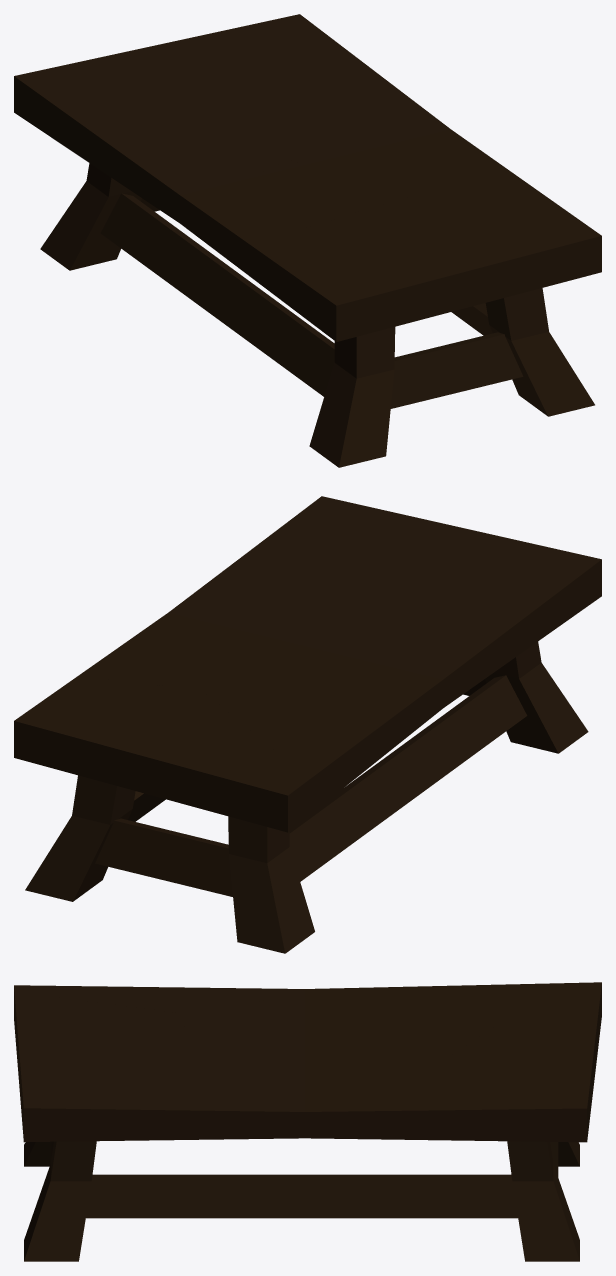
The model's file is table_shattered.FBX.
3 renders of one model, top to bottom at view 1: azimuth 30°, elevation 25°; view 2: azimuth 150°, elevation 25°; view 3: azimuth 270°, elevation 25°, orthographic. The views are drawn at different scales.
Parts seen in each view (by area): view 1: Object009_Part_5, Object009_Part_2, Object009_Part_1, Object009_Part_6, Object009_Part_3, Object009_Part_4, Box006_Part_1, Box007, Object007_Part_3, Box006_Part_2, Object005_Part_1, Object003_Part_1 (+5 smaller); view 2: Object009_Part_6, Object009_Part_5, Object009_Part_2, Object009_Part_1, Object009_Part_3, Object009_Part_4, Box006_Part_1, Box008, Object007_Part_3, Box005_Part_1, Box006_Part_2, Object003_Part_1 (+4 smaller); view 3: Object009_Part_1, Object009_Part_5, Object009_Part_6, Object009_Part_2, Box009_Part_1, Object009_Part_4, Box009_Part_2, Object005_Part_1, Object009_Part_3, Box005_Part_1, Box009_Part_3, Box005_Part_3 (+3 smaller).
Boxes of the visible parts, box(x1,y1,x2,y2) form: Object009_Part_5: box(304, 190, 601, 339); Object009_Part_2: box(37, 93, 288, 228); Object009_Part_1: box(272, 62, 552, 201); Object009_Part_6: box(14, 14, 362, 128); Object009_Part_3: box(187, 197, 350, 341); Object009_Part_4: box(207, 160, 429, 228); Box006_Part_1: box(214, 270, 334, 396); Box007: box(390, 332, 523, 408); Object007_Part_3: box(40, 173, 141, 270); Box006_Part_2: box(149, 226, 238, 316); Object005_Part_1: box(485, 288, 556, 413); Object003_Part_1: box(309, 403, 387, 467); Object009_Part_6: box(14, 675, 311, 832); Object009_Part_5: box(273, 496, 586, 613); Object009_Part_2: box(202, 657, 451, 813); Object009_Part_1: box(79, 533, 315, 690); Object009_Part_3: box(435, 556, 601, 702); Object009_Part_4: box(309, 587, 452, 667); Box006_Part_1: box(373, 675, 527, 804); Box008: box(95, 818, 232, 896); Object007_Part_3: box(230, 831, 314, 953); Box005_Part_1: box(25, 798, 133, 901); Box006_Part_2: box(314, 764, 405, 852); Object003_Part_1: box(506, 690, 588, 753); Object009_Part_1: box(114, 1042, 468, 1140); Object009_Part_5: box(14, 992, 194, 1142); Object009_Part_6: box(440, 982, 601, 1142); Object009_Part_2: box(288, 983, 559, 1061); Box009_Part_1: box(268, 1174, 517, 1218); Object009_Part_4: box(181, 997, 320, 1074); Box009_Part_2: box(150, 1174, 269, 1218); Object005_Part_1: box(33, 1141, 96, 1261); Object009_Part_3: box(14, 985, 289, 1020); Box005_Part_1: box(513, 1142, 579, 1261); Box009_Part_3: box(86, 1174, 158, 1218); Box005_Part_3: box(507, 1141, 551, 1187).
Bounding box in the file's own units: 103 × 59.28 × 202.
